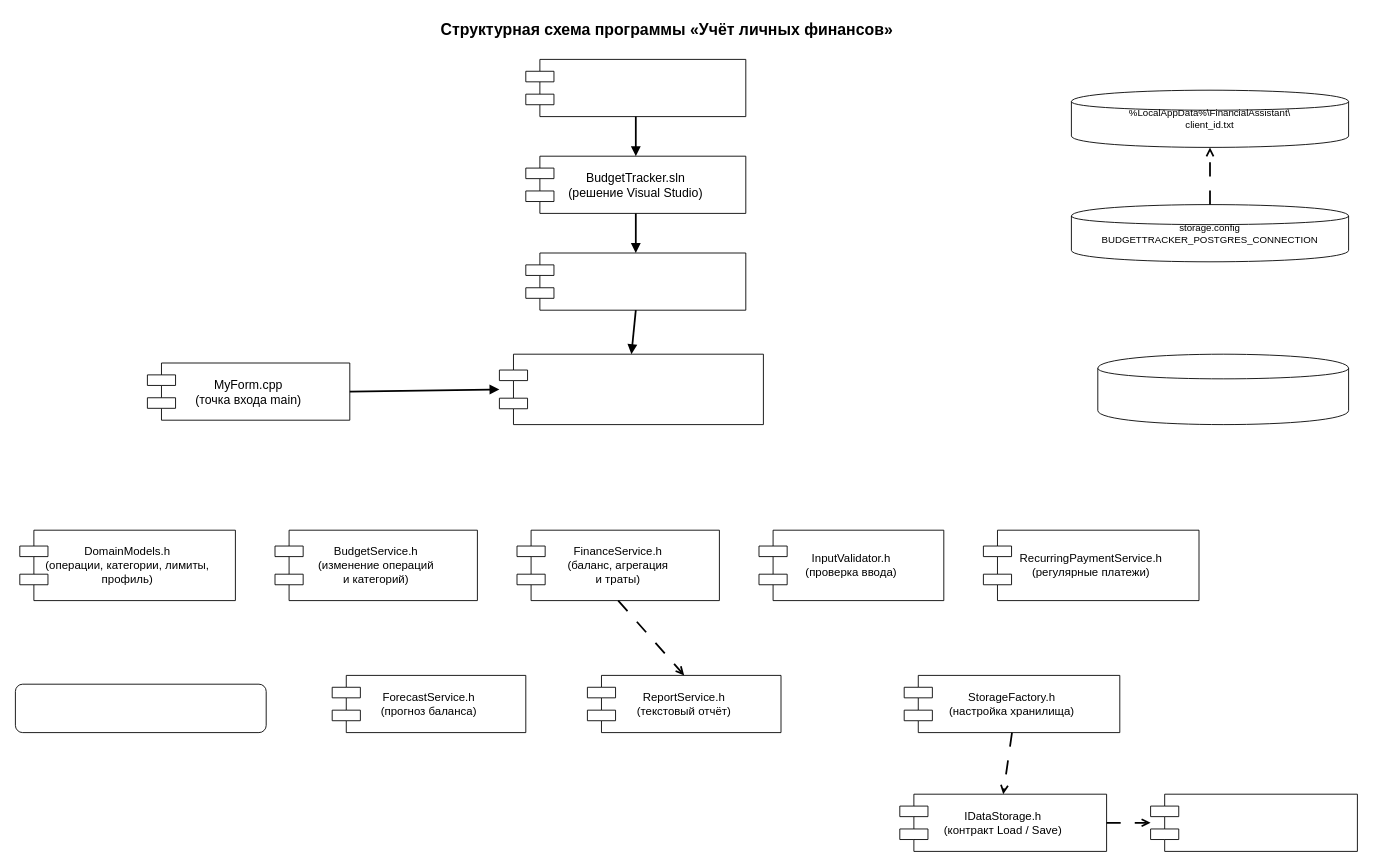
Image size: 1373x867. Some labels were removed from this diagram. Here are the shapes that lost their labels. From the top down, the centre of each, then its label:
At point 635,88: "BudgetTracker.exe (исполняемый файл)".
At point 635,281: "BudgetTracker.vcxproj (проект C++/CLI)".
At point 631,389: "MyForm.h (главная форма Windows Forms)".
At point 1223,389: "PostgreSQL / Supabase (финансовые данные)".
At point 140,708: "Сплошная стрелка — состав/запуск Пунктирная стрелка — зависимость".
At point 1253,822: "PostgreSqlStorage.h (работа с PostgreSQL)".
